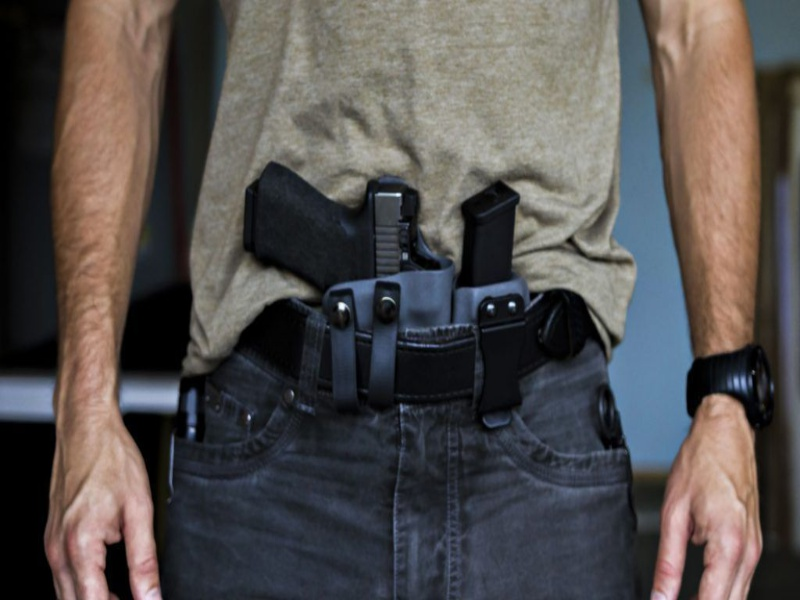gun: (223, 152, 454, 334)
